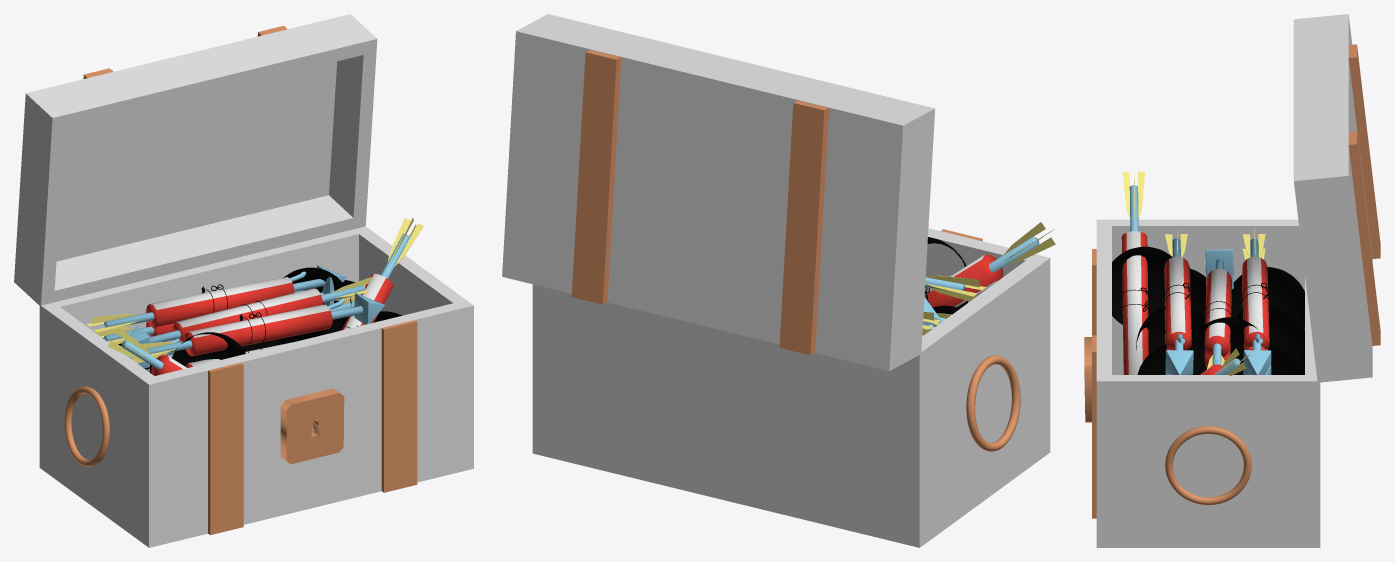
Rendered from chestwithitems .fbx.
3 views of the same model, side by side, from view 1: azimuth 30°, elevation 25°; view 2: azimuth 150°, elevation 25°; view 3: azimuth 270°, elevation 25° (orthographic). The views are drawn at different scales.
Visible parts, largest first — view 1: chest, chest.001, blue.004; view 2: chest, chest.001; view 3: chest, chest.001, blue.004.
Part boxes in pixels (x1,y1,x2,y2): chest: (14, 14, 473, 547); chest.001: (86, 218, 423, 375); blue.004: (103, 267, 401, 373); chest: (502, 14, 1050, 547); chest.001: (922, 222, 1055, 335); chest: (1084, 14, 1380, 547); chest.001: (1121, 171, 1271, 375); blue.004: (1112, 246, 1304, 374).
Size of the model in its own units: 281 by 275 by 193.
